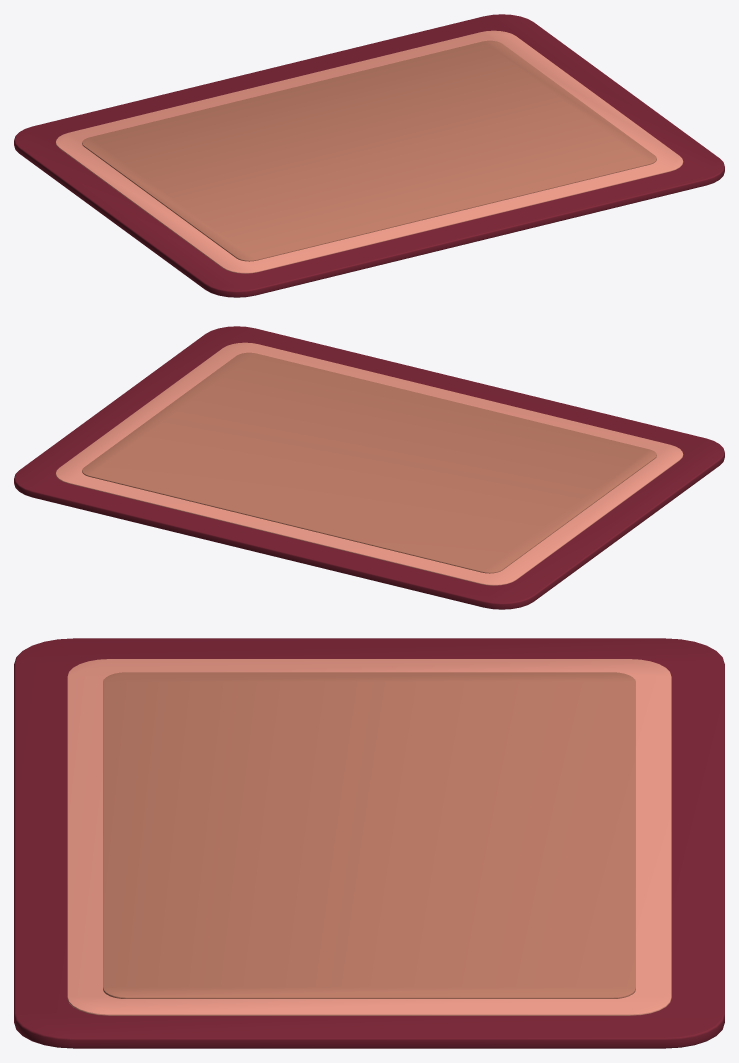
The model's file is tapete_pequeno_vinho.glb.
3 renders of one model, top to bottom at view 1: azimuth 30°, elevation 25°; view 2: azimuth 150°, elevation 25°; view 3: azimuth 270°, elevation 25°, orthographic. The views are drawn at different scales.
Visible parts, largest first — view 1: tapete_pequeno_vinho; view 2: tapete_pequeno_vinho; view 3: tapete_pequeno_vinho.
Part boxes in pixels (bbox=[...]): tapete_pequeno_vinho: bbox=[14, 14, 724, 297]; tapete_pequeno_vinho: bbox=[14, 326, 724, 609]; tapete_pequeno_vinho: bbox=[14, 638, 724, 1048].
Bounding box in the file's own units: 0.8 × 0.0132 × 0.6.
1 material, 1 textured.
